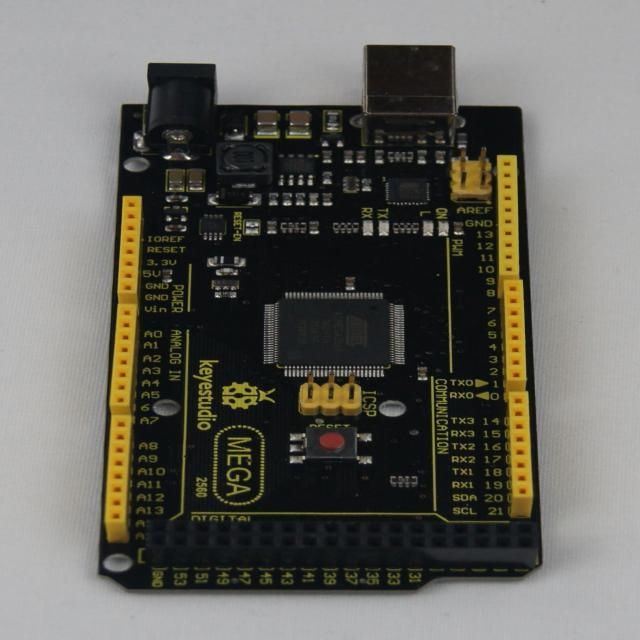Arduino Mega 2560 -Yellow-: (101, 47, 542, 590)
